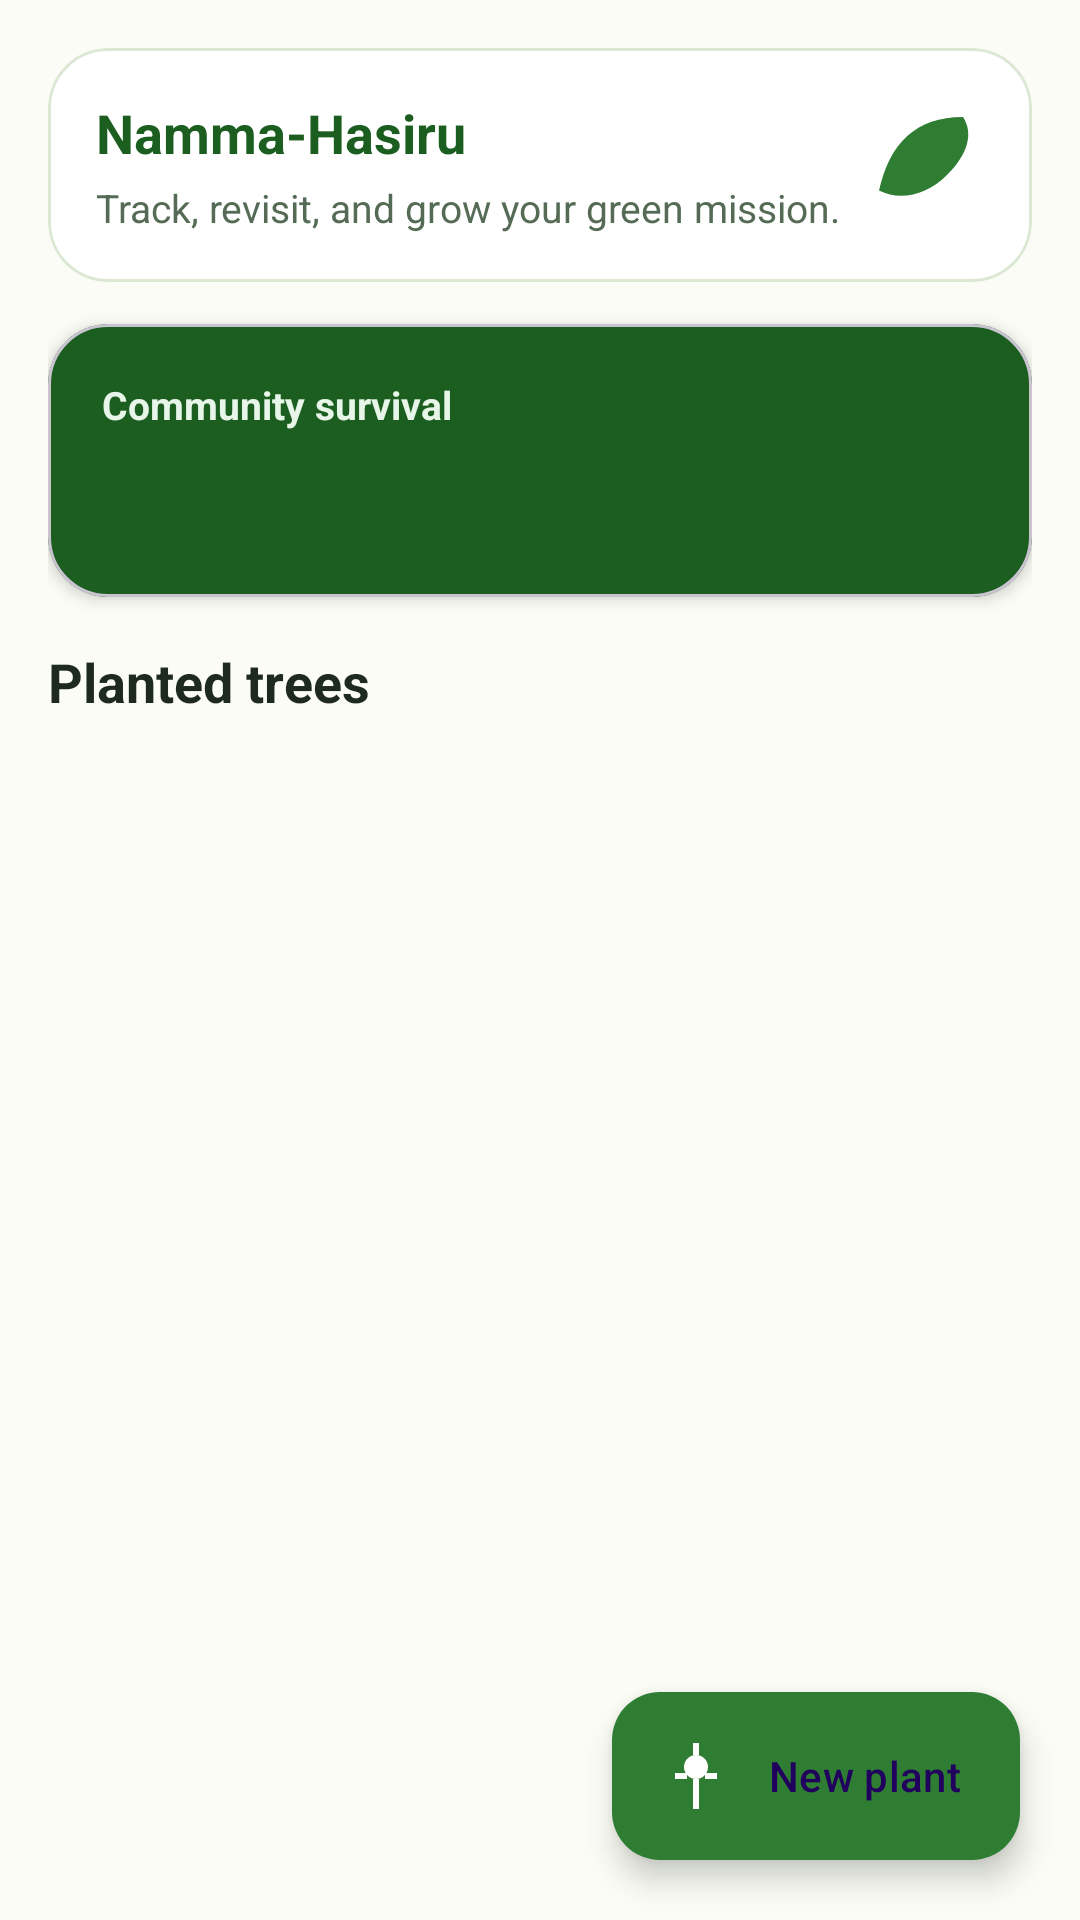

Named icons in this screenshot (1080 x 1920) and their bounding boxes, detection(x1, y1, x2, y2):
leaf badge: detection(879, 117, 969, 196)
